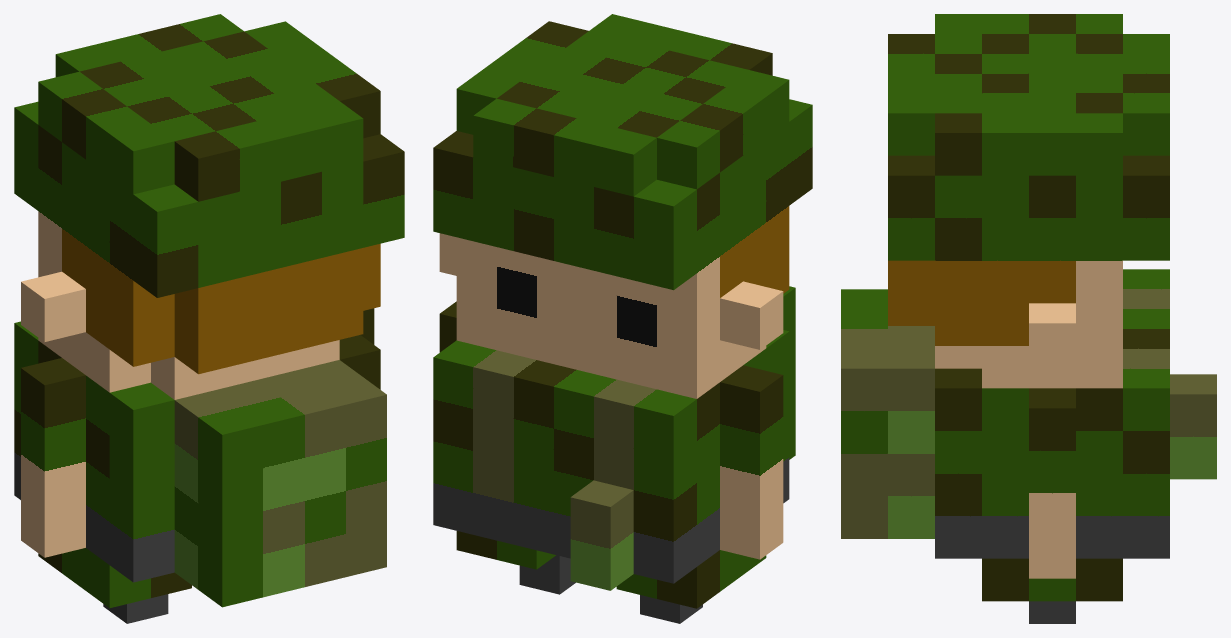
File: chr_army2.dae
3 views of the same model, side by side, from view 1: azimuth 30°, elevation 25°; view 2: azimuth 150°, elevation 25°; view 3: azimuth 270°, elevation 25° (orthographic). The views are drawn at different scales.
Visible parts, largest first — view 1: chr_army2; view 2: chr_army2; view 3: chr_army2.
Boxes of the visible parts, x1,y1,x2,y2 form: chr_army2: (14,14,404,623); chr_army2: (433,14,812,623); chr_army2: (841,14,1216,623).
Bounding box in the file's own units: 0.8 × 0.8 × 1.2.
